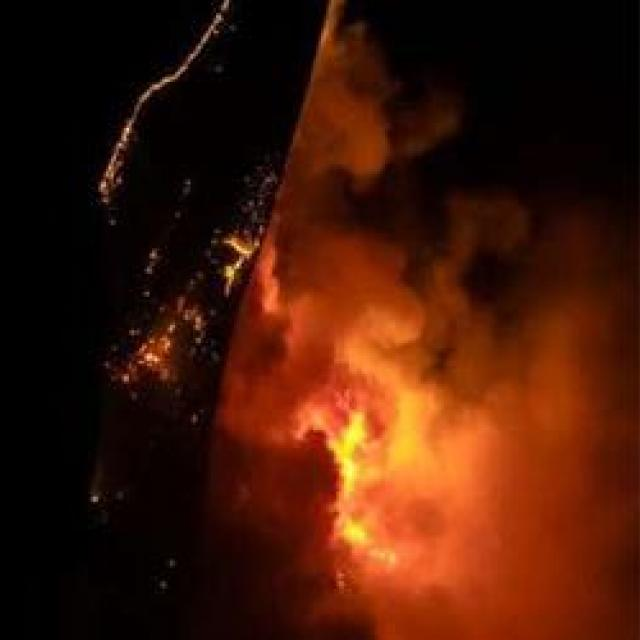fire: (315, 407, 372, 487), (347, 510, 415, 570), (104, 114, 130, 198)
smoke: (374, 374, 602, 503), (504, 220, 611, 334), (304, 88, 459, 164), (192, 583, 389, 640), (208, 496, 338, 582), (314, 249, 418, 351), (214, 348, 292, 468), (321, 32, 386, 112), (448, 210, 524, 262)
